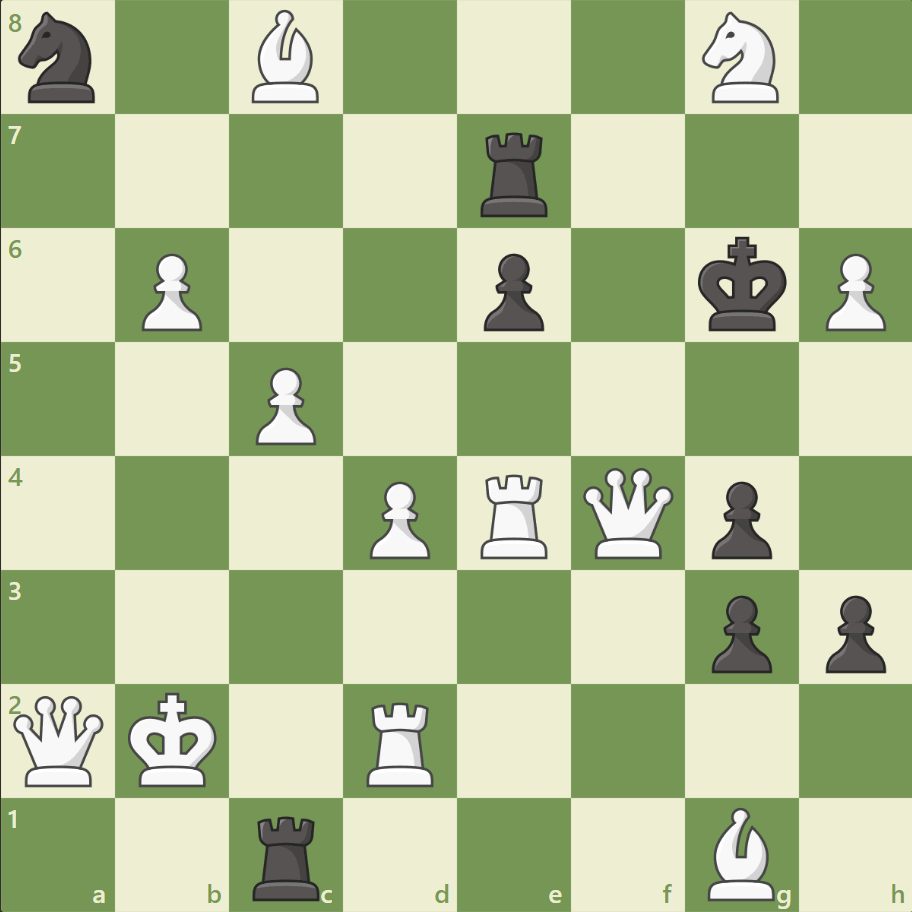B: (244, 6, 328, 109), (698, 801, 782, 904)
K: (124, 685, 224, 793)
N: (692, 7, 789, 110)
P: (133, 246, 208, 337), (247, 359, 322, 450), (815, 246, 889, 337), (361, 473, 435, 564)
Q: (578, 463, 677, 562), (10, 690, 109, 789)
R: (473, 466, 556, 563), (360, 693, 442, 790)
k: (692, 231, 792, 339)
n: (11, 7, 108, 110)
p: (474, 246, 549, 337), (701, 473, 776, 564), (701, 586, 776, 677), (815, 586, 889, 677)
r: (246, 806, 329, 904), (473, 125, 556, 222)
